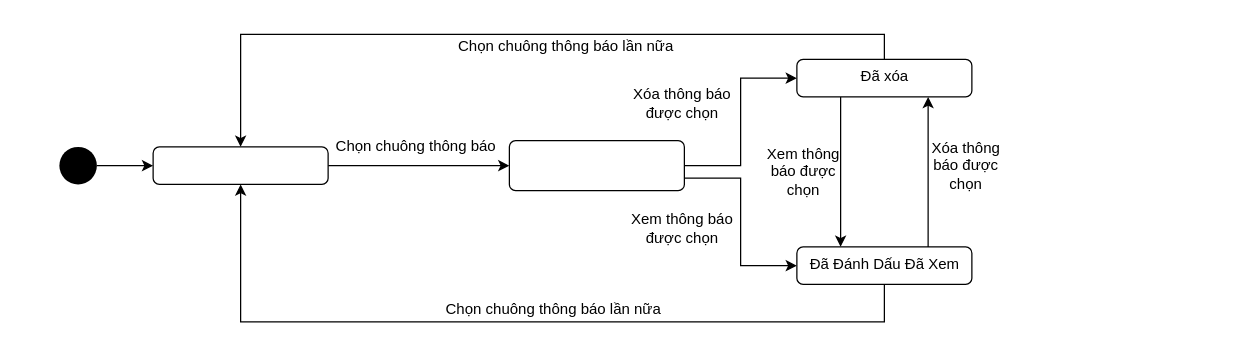
The diagram is 1243 pixels wide and 355 high, and some of its shapes have lost their labels. Here are the shapes that lost their labels. From the top down, the box of each, then its label:
(152, 146, 328, 184): Chờ ngoài Trang chủ
(508, 139, 684, 191): Được hiển thị
